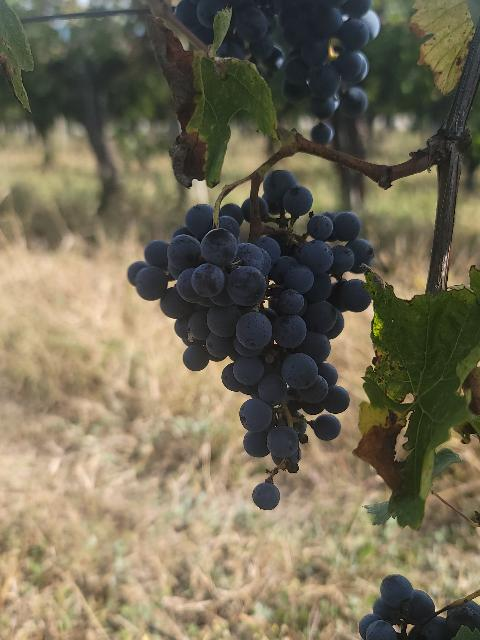grapes: (128, 171, 374, 510)
